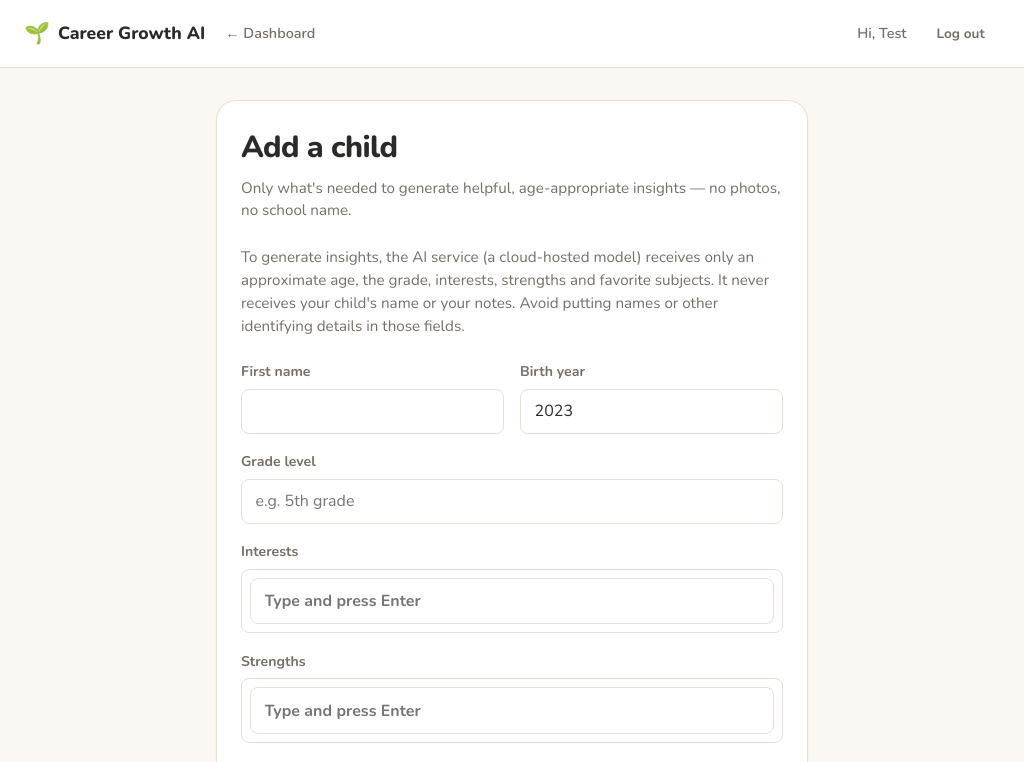
Scenario: ChildFormPage validation › rejects a birth year outside the allowed child age range
Type "Alex" into the field labelled "First name" at coordinates (372, 411), box top-left (241, 389), bottom-right (504, 434)
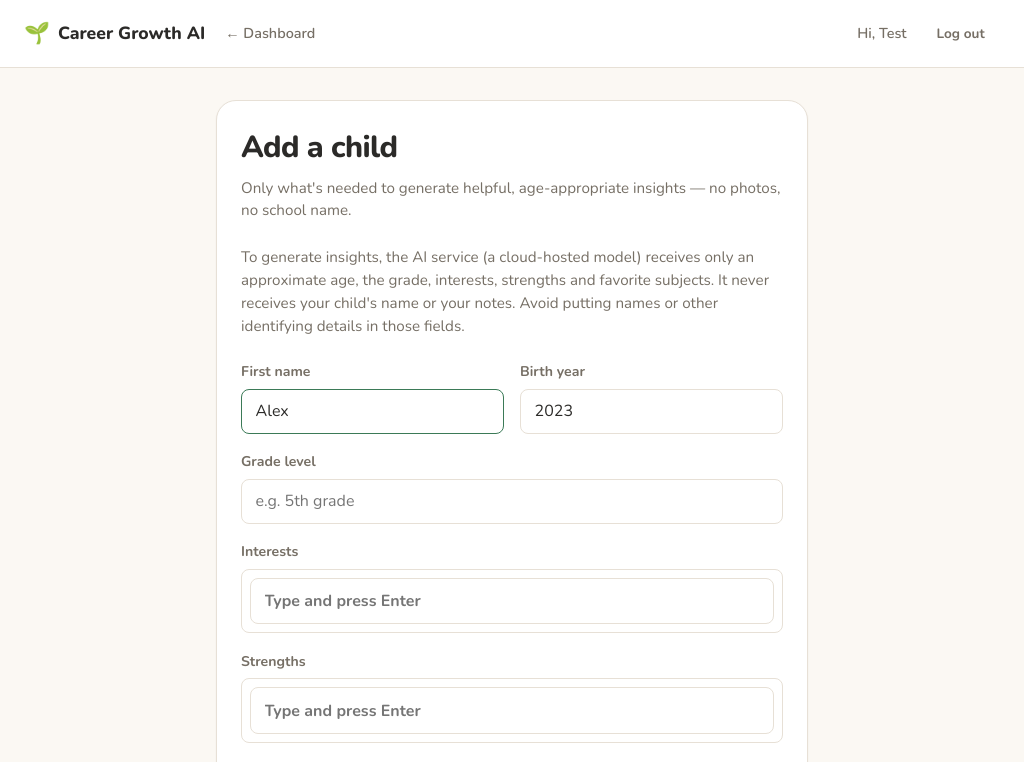
Replace the text in the number field labelled "Birth year" with "1990" at coordinates (652, 411), box top-left (520, 389), bottom-right (783, 434)
(page scrolled)
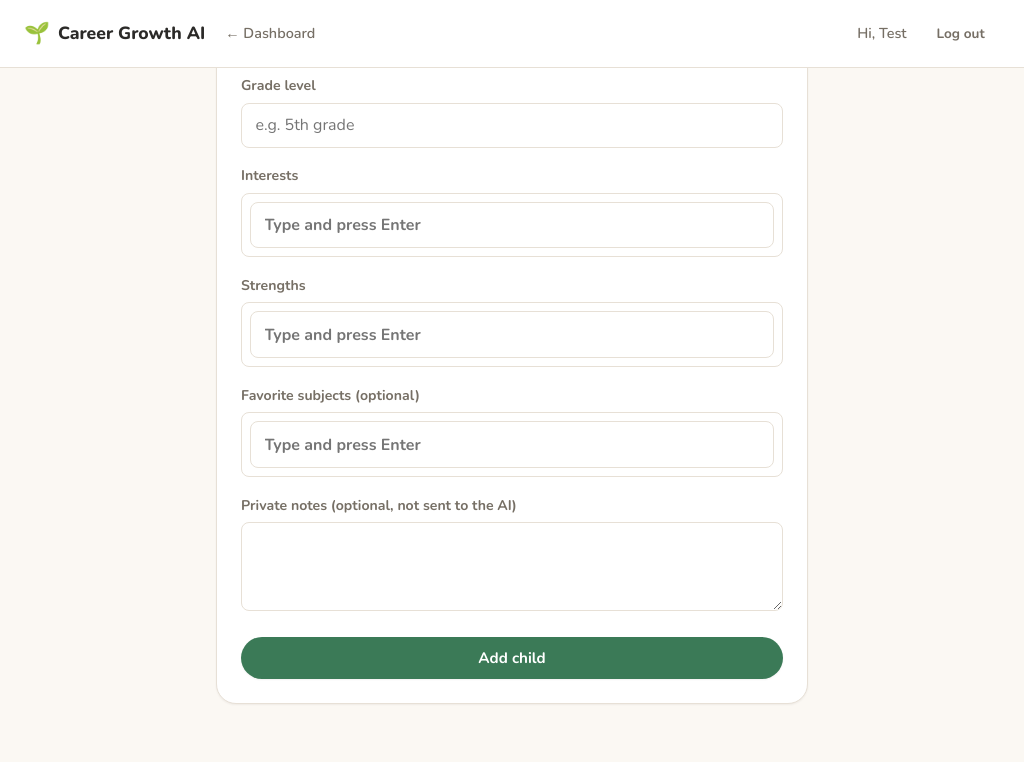
Click the button "Add child" at coordinates (512, 658), box top-left (241, 637), bottom-right (783, 679)
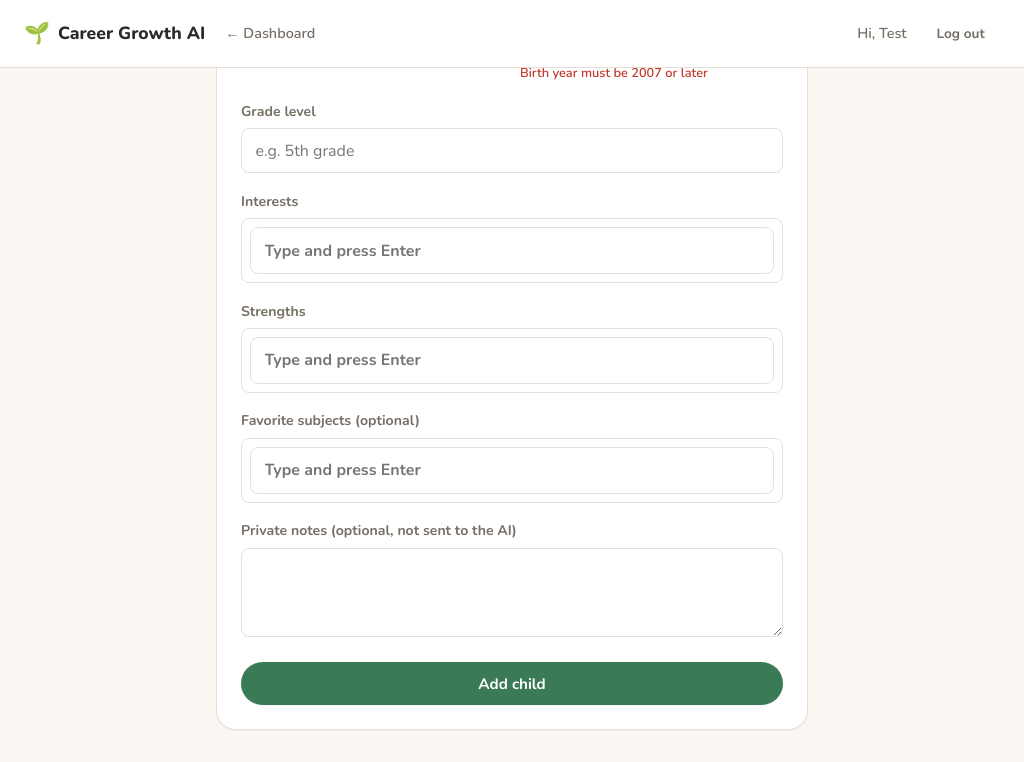
Expected: the text "Birth year must be 2007 or later" is shown, top-left (520, 64), bottom-right (708, 82)
